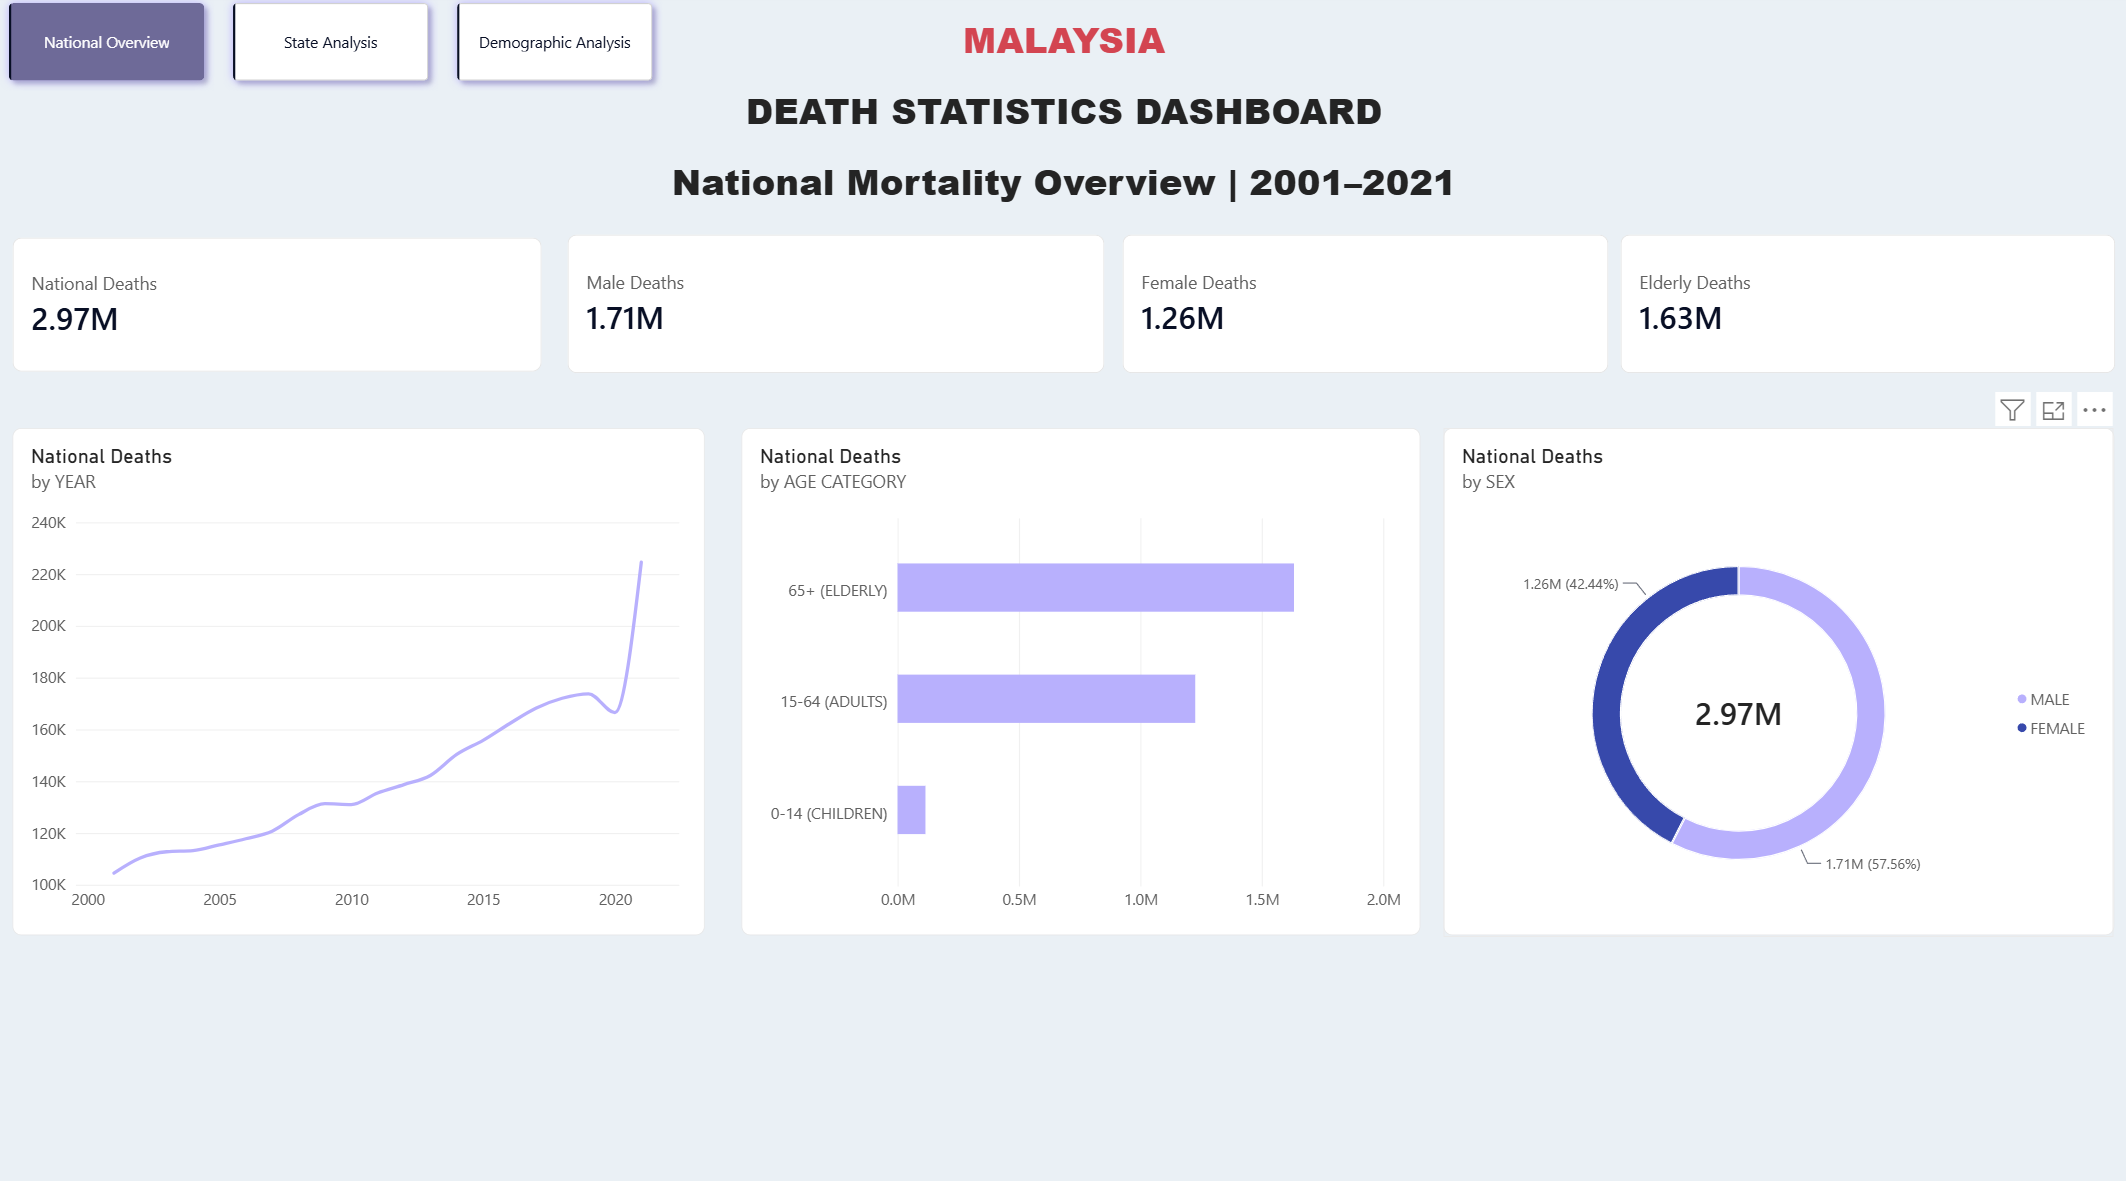

This screenshot's page, from the dashboard's own definition file:
{"tool":"powerbi","page":{"name":"National Overview","canvas":[1920,1080],"ordinal":0},"visuals":[{"type":"textbox","box":[0,0,1920.6,217.3],"z":0},{"type":"cardVisual","fields":{"Data":["Death Data.National Deaths"]},"box":[12.2,220.7,478,121.7],"z":1000},{"type":"cardVisual","fields":{"Data":["Death Data.Male Deaths"]},"box":[512.7,217.3,484.9,125.1],"z":2000},{"type":"cardVisual","fields":{"Data":["Death Data.Female Deaths"]},"box":[1013.3,217.3,438,125.1],"z":3000},{"type":"cardVisual","fields":{"Data":["Death Data.Elderly Deaths"]},"box":[1461.7,217.3,446.7,125.1],"z":4000},{"type":"lineChart","fields":{"Category":["Death Data.YEAR"],"Y":["Death Data.National Deaths"]},"box":[12.2,392.8,624,457.1],"z":5000},{"type":"clusteredBarChart","fields":{"Category":["Death Data.AGE CATEGORY"],"Y":["Death Data.National Deaths"]},"box":[669.2,392.8,611.8,457.1],"z":6000},{"type":"donutChart","fields":{"Category":["Death Data.SEX"],"Y":["Death Data.National Deaths"]},"box":[1301.8,392.8,604.9,457.1],"z":7000},{"type":"pageNavigator","box":[0,0,599.6,88.6],"z":8000}]}

Visuals, with their boxes in screenshot pixels (x1, y1, x2, y2), scaled from the page's 1920x1080 canvas onto the 2126x1181 screenshot:
textbox: 0 0 2125 238
cardVisual - Death Data.National Deaths: 14 241 543 374
cardVisual - Death Data.Male Deaths: 568 238 1105 374
cardVisual - Death Data.Female Deaths: 1122 238 1607 374
cardVisual - Death Data.Elderly Deaths: 1619 238 2113 374
lineChart - Death Data.YEAR x Death Data.National Deaths: 14 430 704 929
clusteredBarChart - Death Data.AGE CATEGORY x Death Data.National Deaths: 741 430 1418 929
donutChart - Death Data.SEX x Death Data.National Deaths: 1441 430 2111 929
pageNavigator: 0 0 664 97
